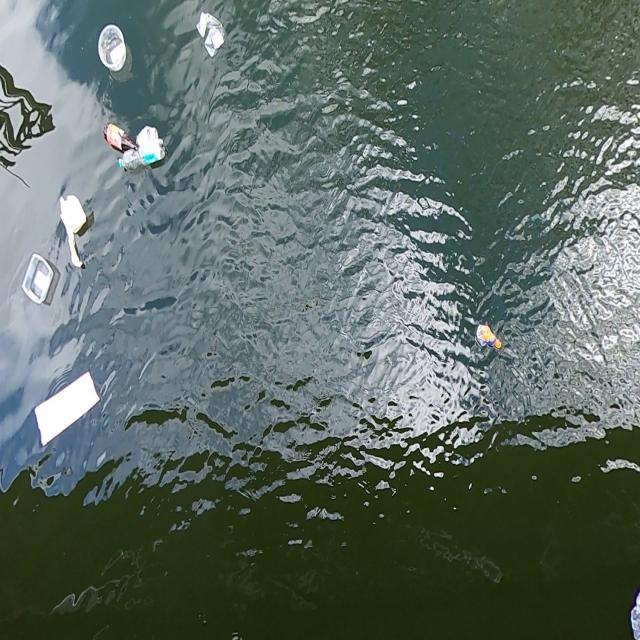Autre plastique: (21, 248, 56, 310), (94, 21, 130, 76)
Non plastique: (117, 142, 172, 177), (101, 118, 138, 153), (473, 320, 506, 359)
Sac plastique: (195, 9, 229, 62)
